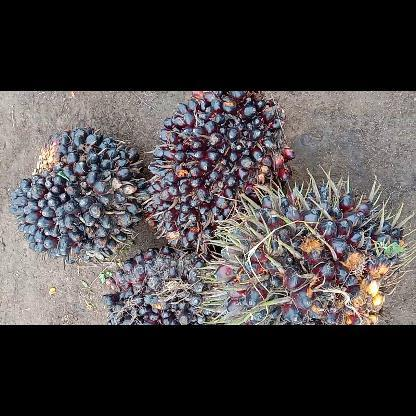TBS mentah: (209, 182, 408, 324), (144, 91, 298, 253), (7, 124, 148, 264), (99, 244, 225, 324)
